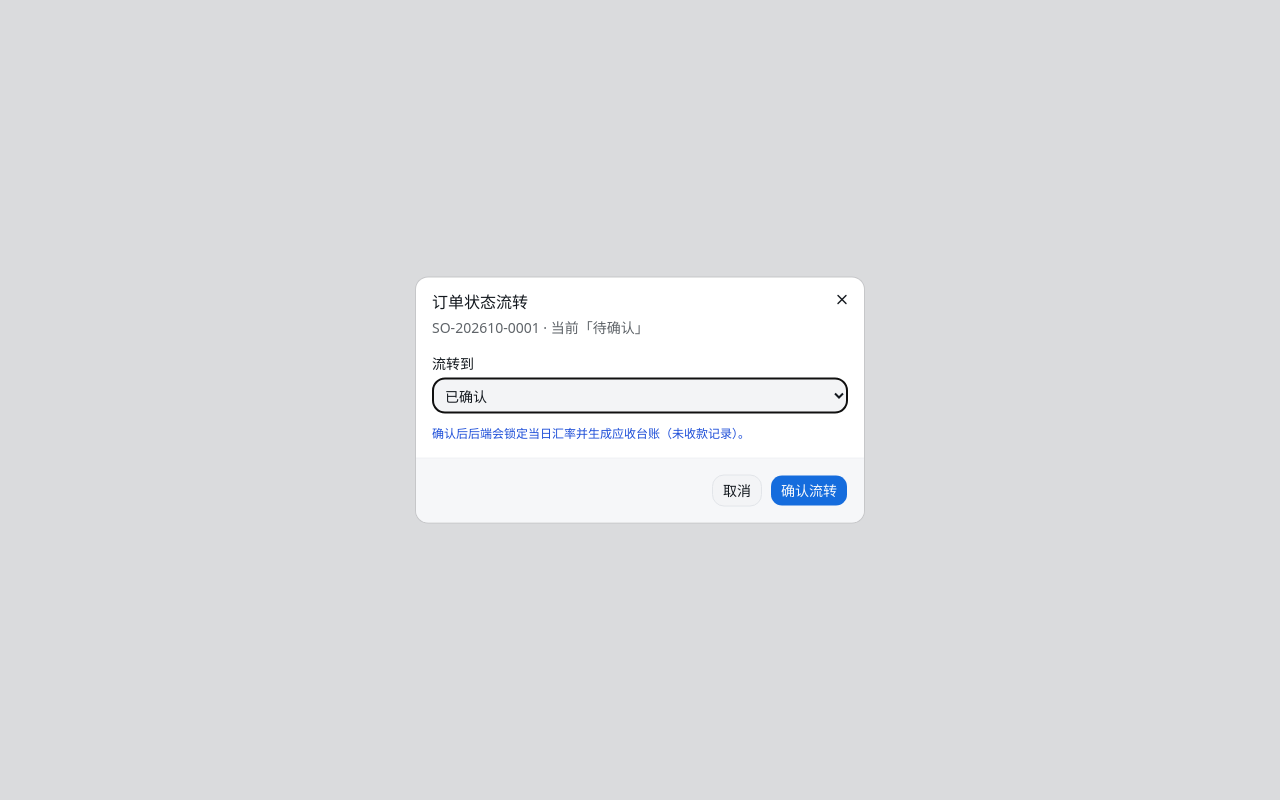
Test: OrderStatusDialog › 409 ILLEGAL_TRANSITION：把「允许的目标」展示出来，弹窗不关闭
The image size is (1280, 800).
Click the button "确认流转": (809, 490) [770, 474, 848, 506]
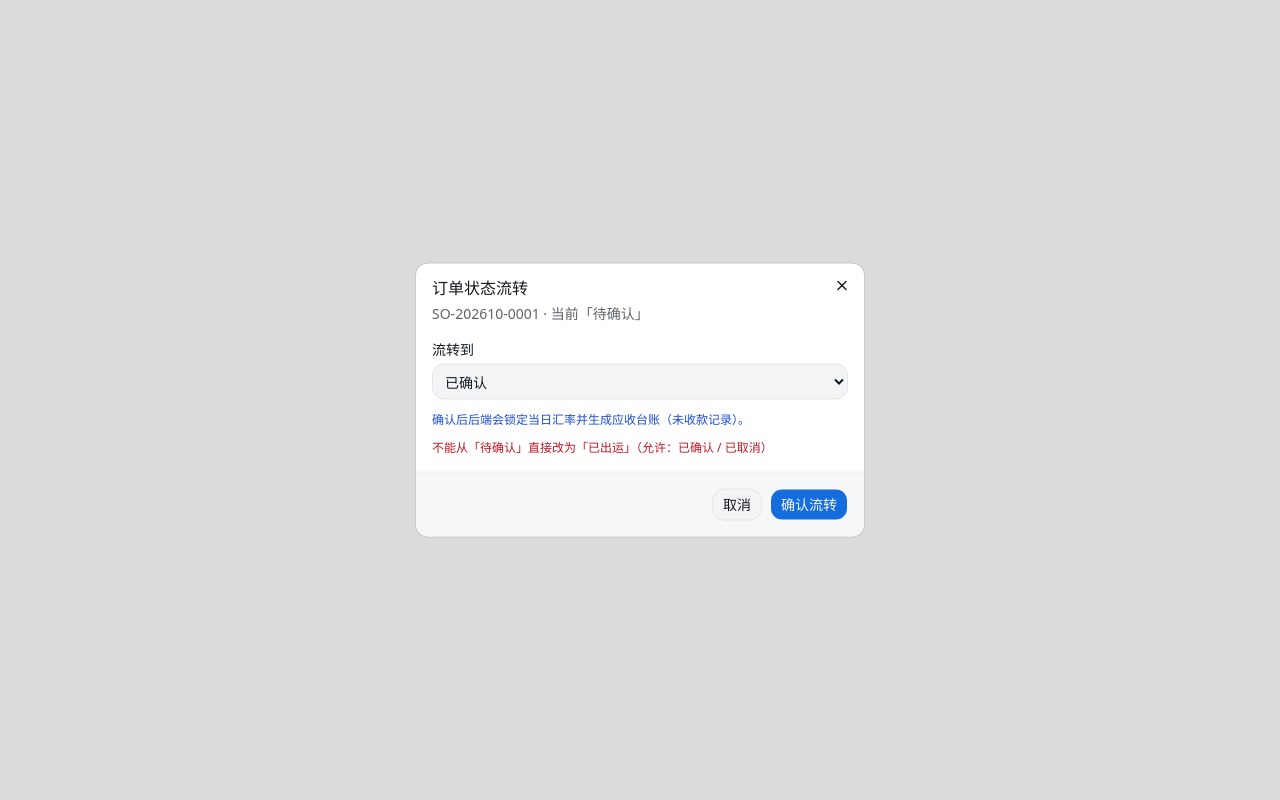
Check: the message "不能从「待确认」直接改为「已出运」（允许：已确认 / 已取消）" is shown, box [432, 438, 773, 456]
